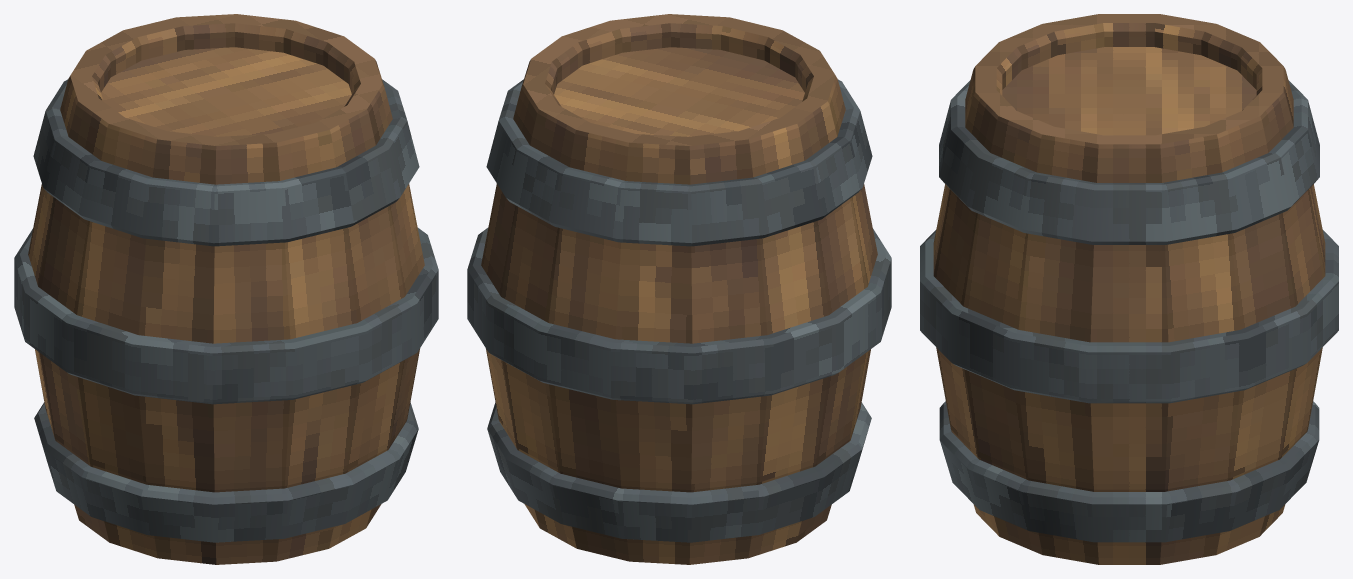
The model's file is pixel-fantasy-wooden-barrel.glb.
3 renders of one model, left to right at view 1: azimuth 30°, elevation 25°; view 2: azimuth 150°, elevation 25°; view 3: azimuth 270°, elevation 25°, orthographic.
Visible parts, largest first — view 1: Stylized Wooden Barrel frame; view 2: Stylized Wooden Barrel frame; view 3: Stylized Wooden Barrel frame.
Boxes of the visible parts, x1,y1,x2,y2 form: Stylized Wooden Barrel frame: (14, 14, 438, 564); Stylized Wooden Barrel frame: (467, 14, 891, 564); Stylized Wooden Barrel frame: (920, 14, 1338, 564).
Bounding box in the file's own units: 0.8116 × 0.9 × 0.8116.
1 material, 1 textured.
